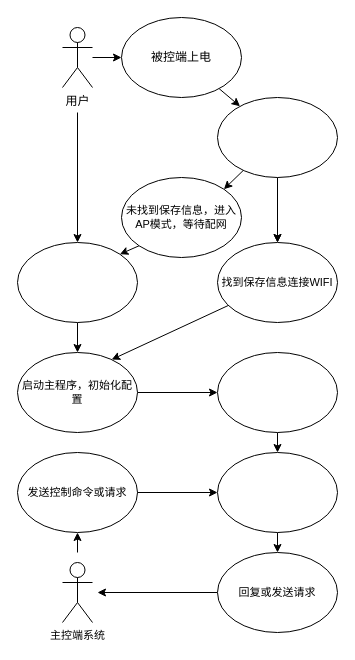
This 355x660 diagram has some shape labels left out. The shapes that lost their labels are listed below. From the top down, each one's centre as x and y in pixels, then its label:
At point 277,137: "读取板载WIFI连接信息".
At point 77,282: "用户配网".
At point 277,392: "侦听TCP和UDP请求".
At point 277,492: "收到请求并处理".
